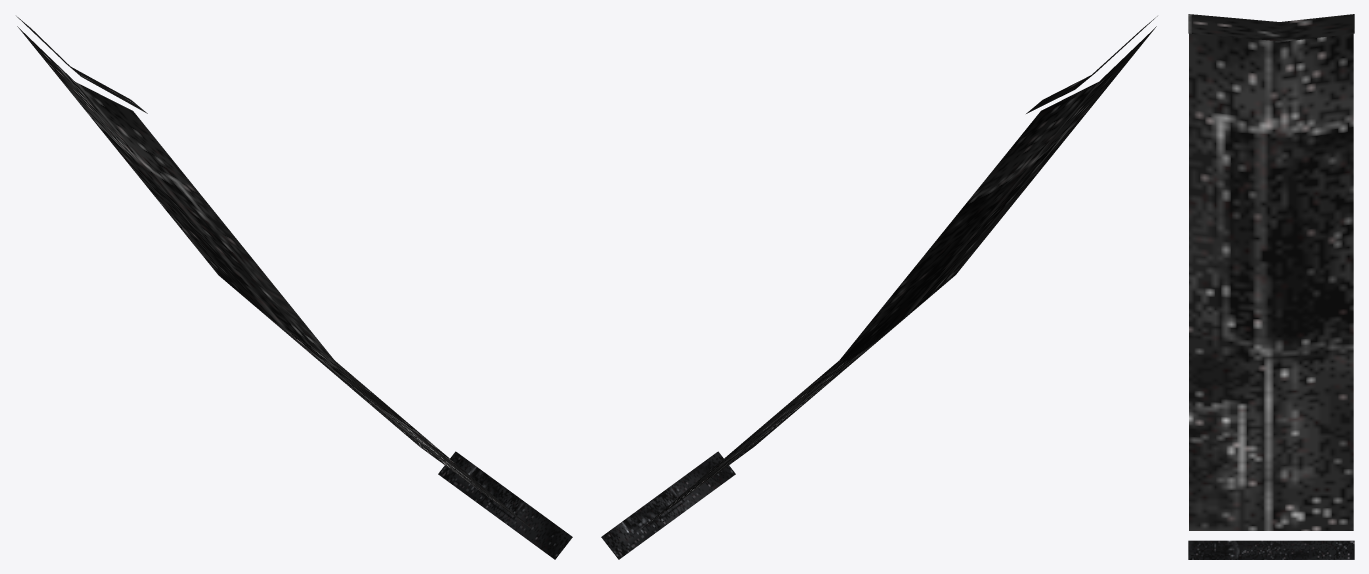
File: Dach_DachpappeSchräg_1390.glb
3 renders of one model, left to right at view 1: azimuth 30°, elevation 25°; view 2: azimuth 150°, elevation 25°; view 3: azimuth 270°, elevation 25°, orthographic. The views are drawn at different scales.
Visible parts, largest first — view 1: polySurfaceShape1072, pCylinderShape4; view 2: polySurfaceShape1072, pCylinderShape4; view 3: polySurfaceShape1072, pCylinderShape5, pCylinderShape4.
Part boxes in pixels (box(x1,y1,x2,y2)): polySurfaceShape1072: box(17, 26, 534, 530); pCylinderShape4: box(438, 451, 572, 559); polySurfaceShape1072: box(639, 26, 1156, 530); pCylinderShape4: box(601, 451, 735, 559); polySurfaceShape1072: box(1189, 33, 1353, 530); pCylinderShape5: box(1188, 14, 1354, 41); pCylinderShape4: box(1188, 540, 1354, 559).
Size of the model in its own units: 0.5847 by 0.7126 by 0.2686.
3 materials, 3 textured.
